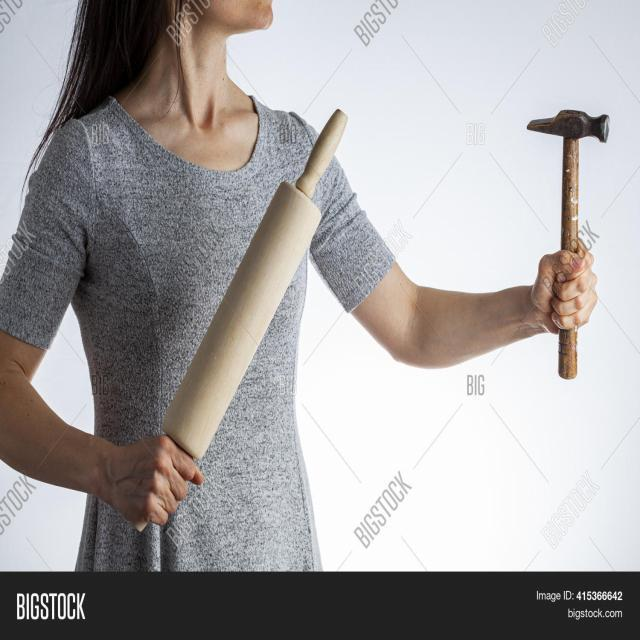hammer: (520, 96, 615, 387)
